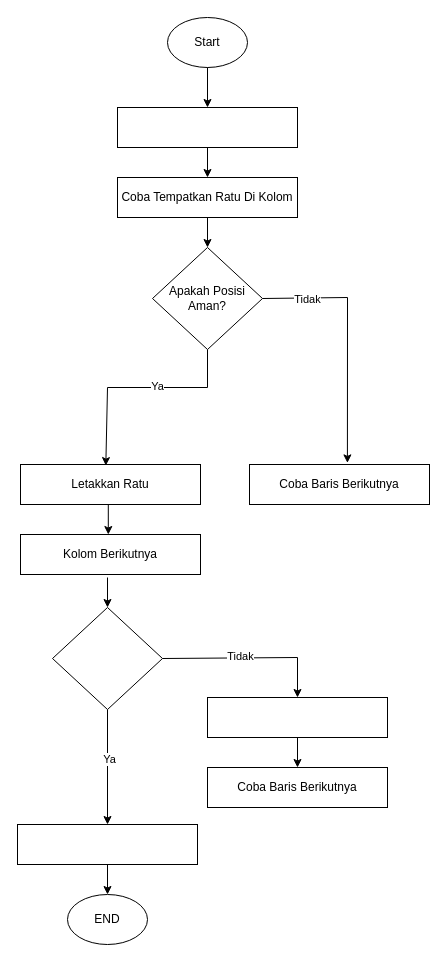
The diagram is 447 pixels wide and 962 high, and some of its shapes have lost their labels. Each missing label, with the centre of its shape:
Backtrack: (297,717)
Buat Papan NxN: (207,127)
Semua Ratu Ditempatkan?: (107,658)
Solusi: (107,844)
